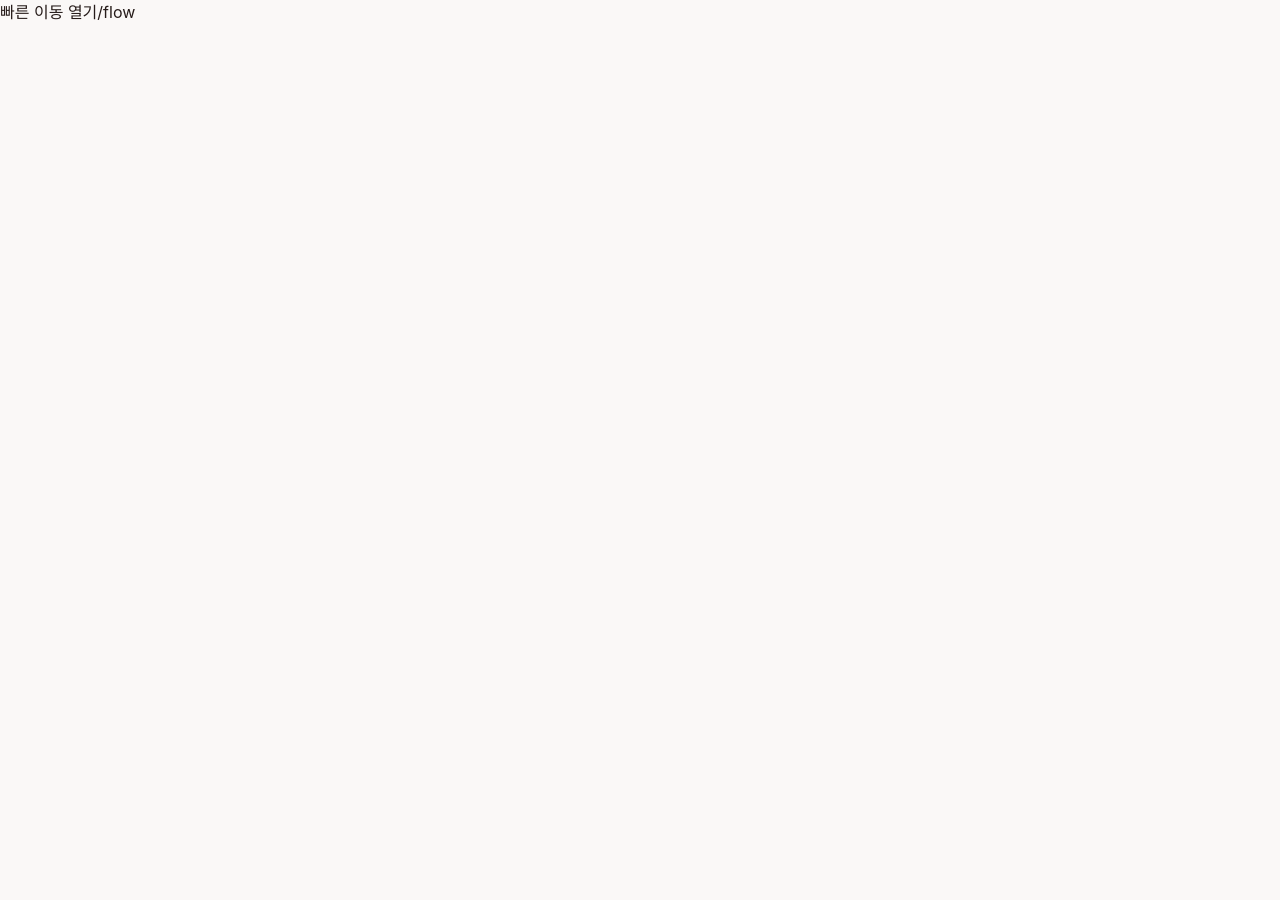
빠른 이동 팔레트 › Ctrl+K로 열고 검색·방향키·Enter로 화면을 이동한다
Press k
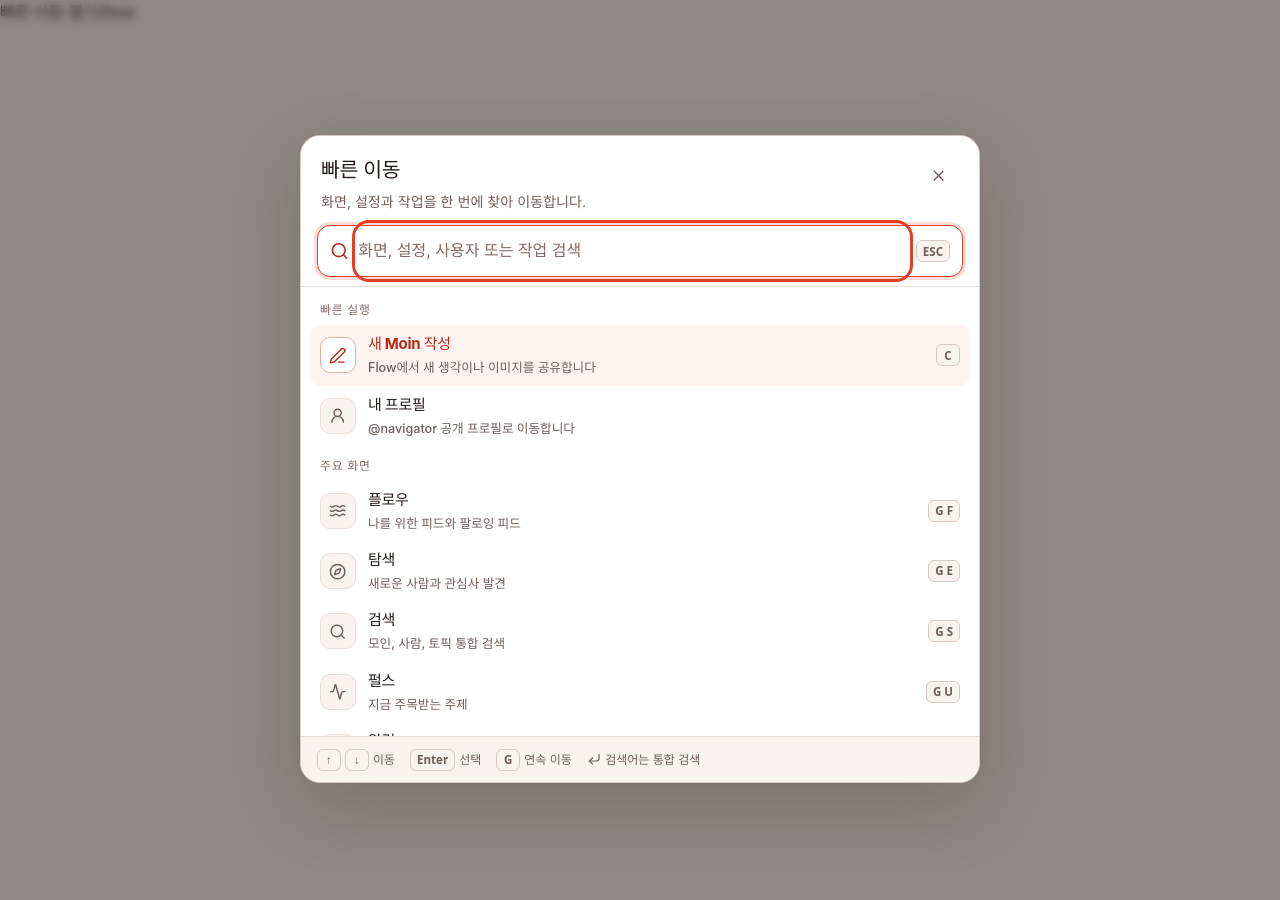
Type "포켓" into the dropdown named "빠른 이동 검색" at (633, 251), box [358,226,907,276]
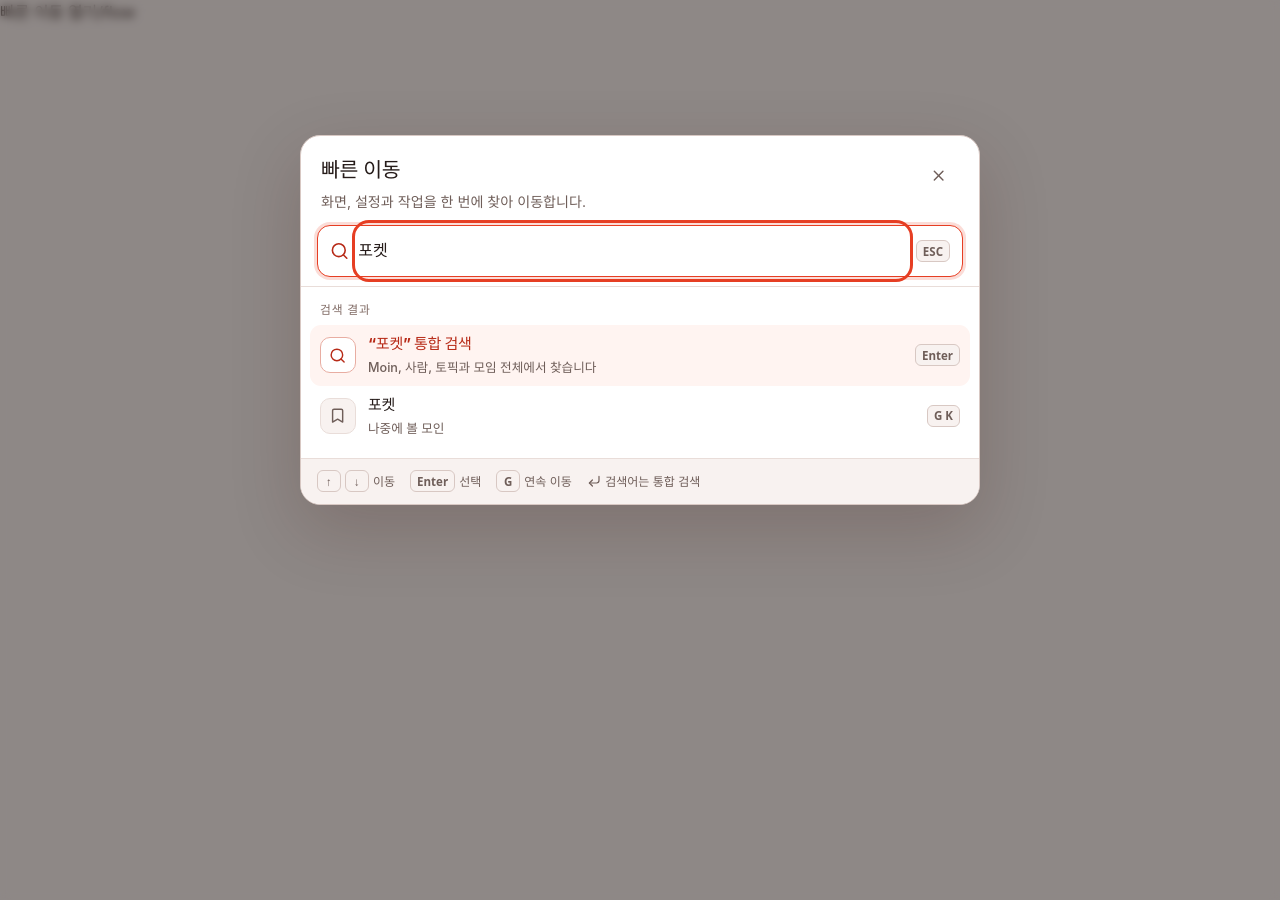
Press ArrowDown in the dropdown named "빠른 이동 검색", box [358,226,907,276]
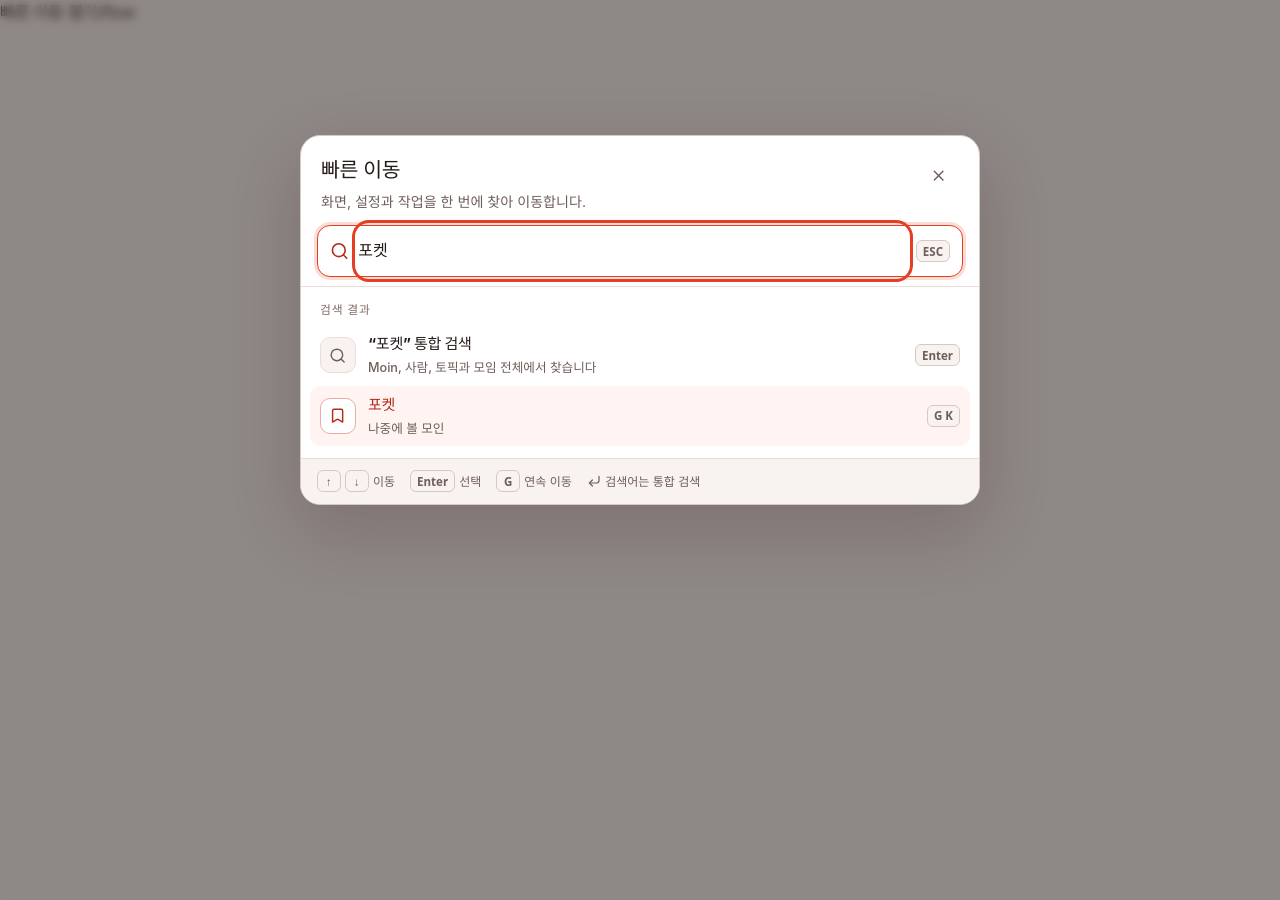
Expected: the option "포켓 나중에 볼 모인 G K" is selected, [310,386,970,446]
Press Enter in the dropdown named "빠른 이동 검색", box [358,226,907,276]
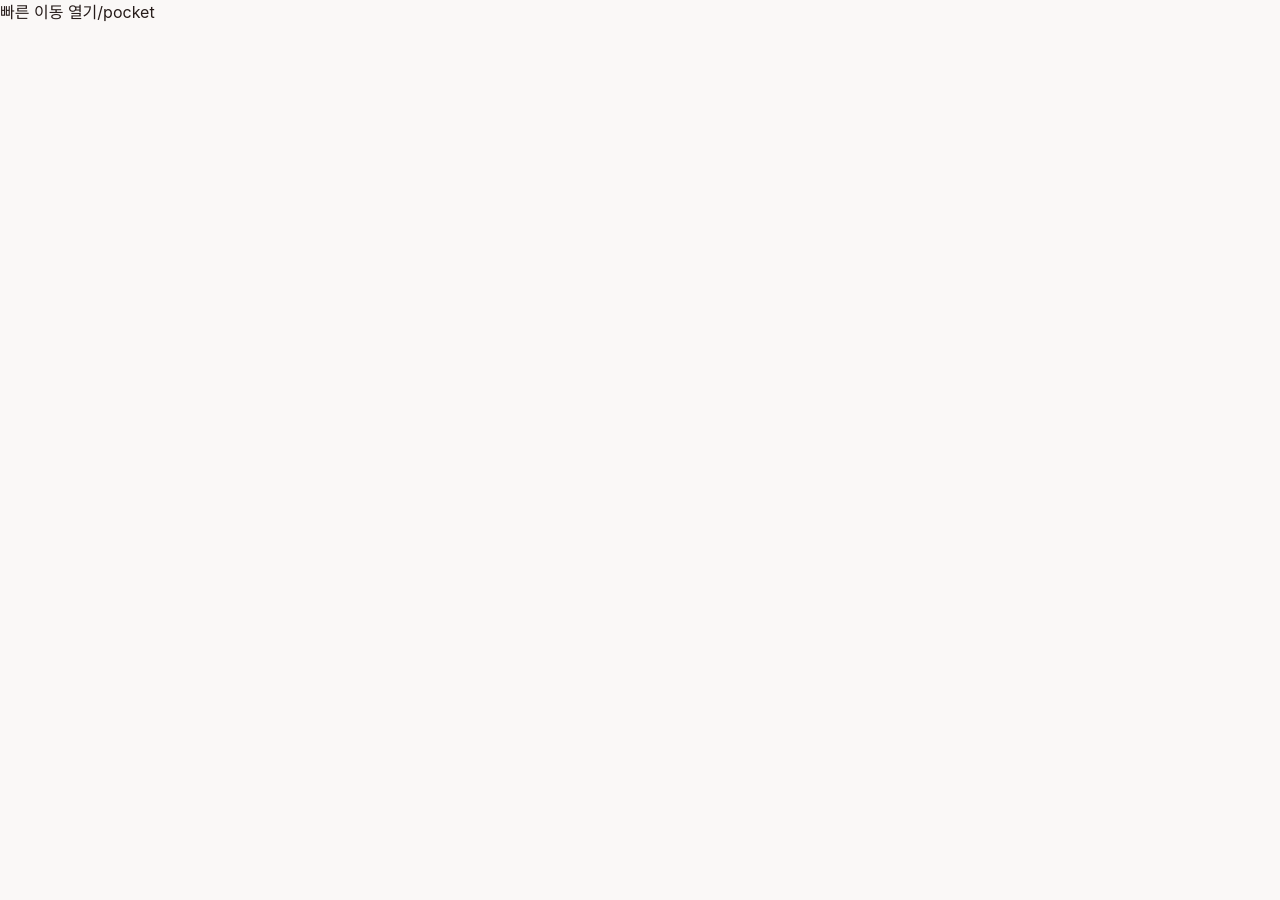
Expected: the text named "현재 경로" reads "/pocket", [97,2,155,22]
